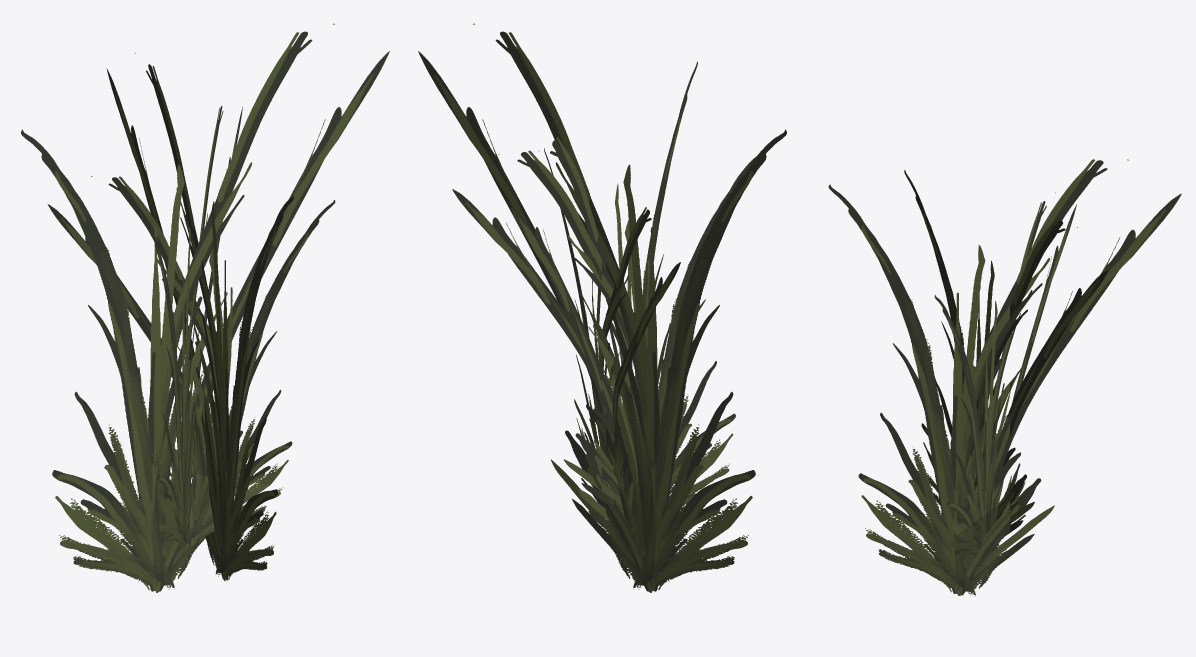
The model's file is shared_green_grass_03.fbx.
The picture shows the model from 3 angles, left to right: view 1: azimuth 30°, elevation 25°; view 2: azimuth 150°, elevation 25°; view 3: azimuth 270°, elevation 25°; orthographic projection. The views are drawn at different scales.
Visible parts, largest first — view 1: shared_green_grass_03; view 2: shared_green_grass_03; view 3: shared_green_grass_03.
Boxes of the visible parts, left/top/right/bottom form: shared_green_grass_03: left=21, top=23, right=389, bottom=592; shared_green_grass_03: left=418, top=23, right=786, bottom=592; shared_green_grass_03: left=828, top=159, right=1181, bottom=596.
Size of the model in its own units: 1 by 1.51 by 0.8794.
